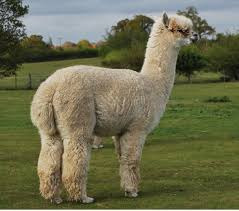alpaca: (29, 10, 199, 204)
